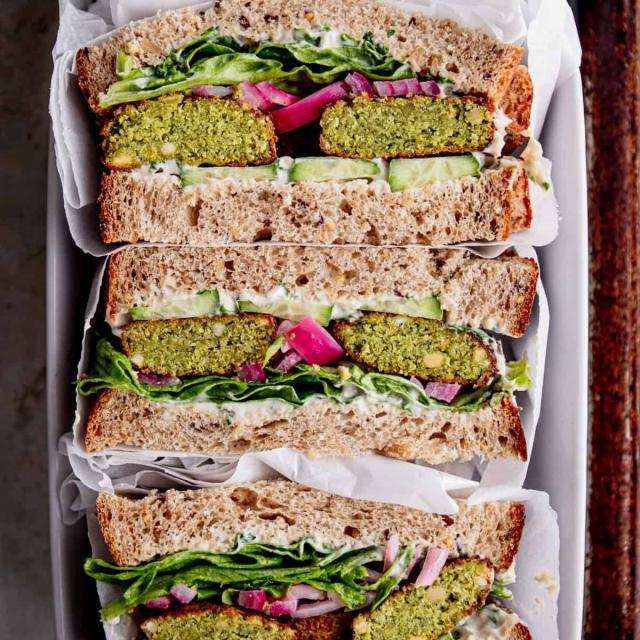flafel: (98, 91, 284, 167), (336, 307, 503, 389), (313, 96, 507, 161), (116, 310, 274, 377), (138, 608, 300, 640)
